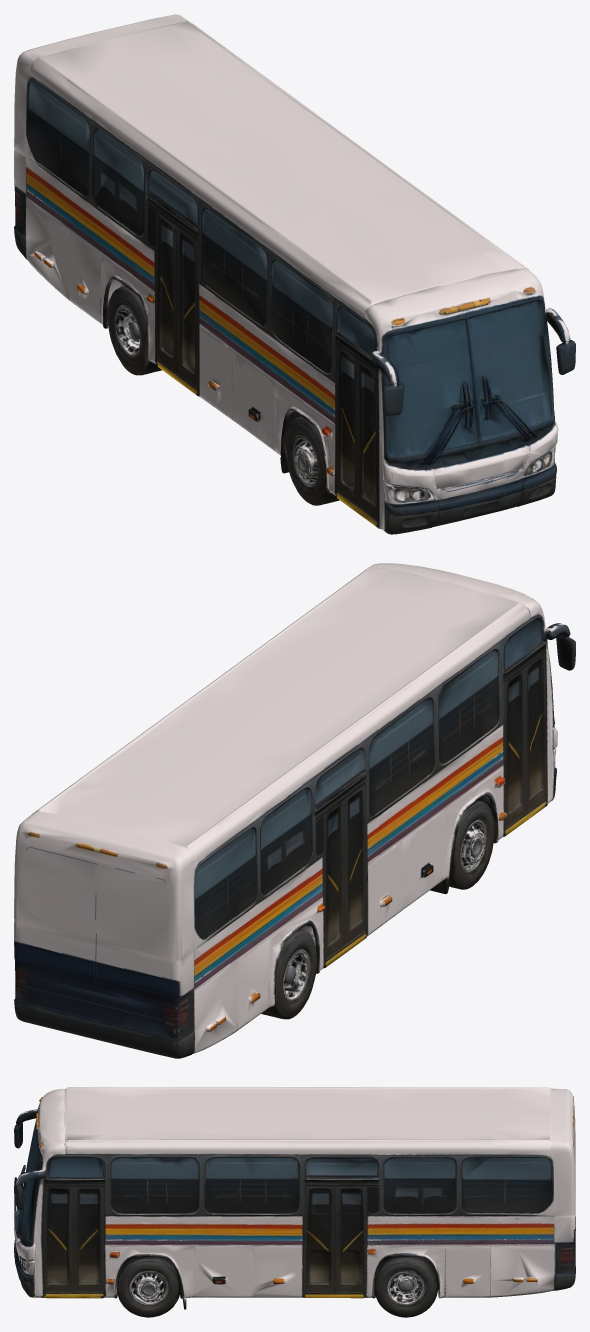
File: car-bus-white-v3.glb
3 views of the same model, one above another, from view 1: azimuth 30°, elevation 25°; view 2: azimuth 150°, elevation 25°; view 3: azimuth 270°, elevation 25° (orthographic). The views are drawn at different scales.
Visible parts, largest first — view 1: node_0; view 2: node_0; view 3: node_0.
Part boxes in pixels (<box>): node_0: <box>14,14,575,534</box>; node_0: <box>14,563,575,1058</box>; node_0: <box>14,1087,575,1317</box>.
Bounding box in the file's own units: 0.324 × 0.3901 × 1.13.
Materials: 1 (1 with a texture image).
